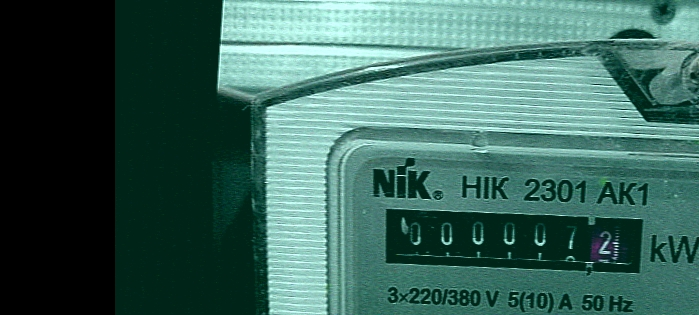0: (408, 217, 427, 245), (502, 217, 521, 245), (471, 216, 489, 245), (440, 217, 458, 245), (534, 218, 551, 247)
2: (599, 228, 616, 255)
7: (565, 219, 582, 250)
screen: (373, 194, 658, 284)
